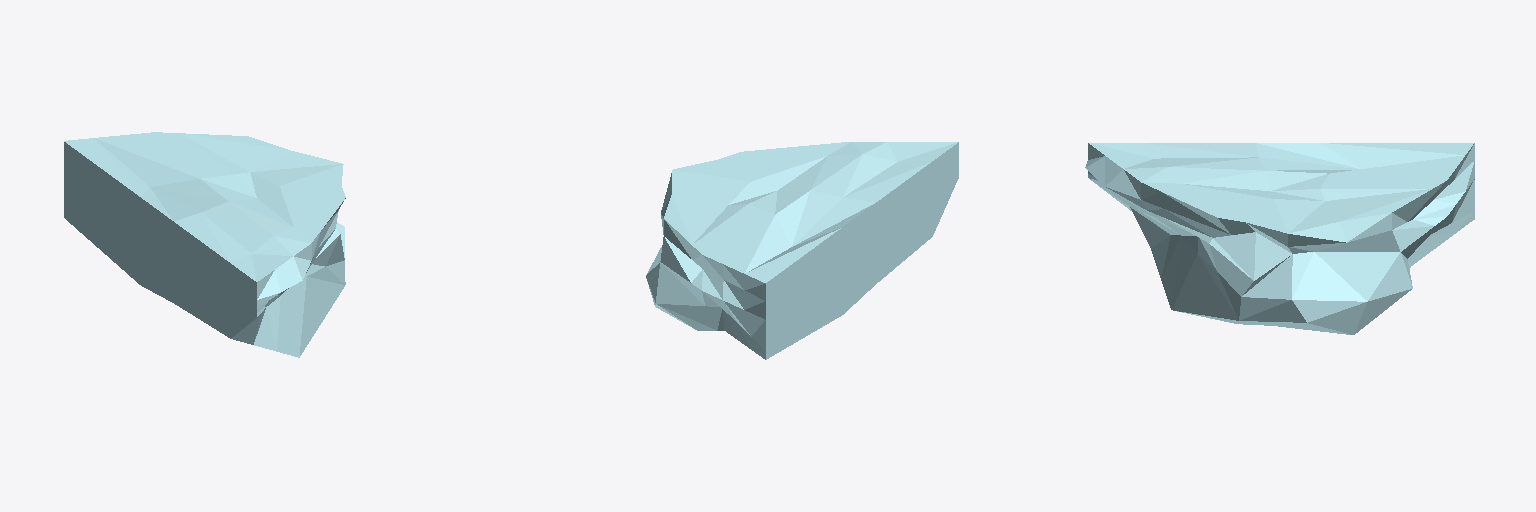
File: glacier.obj
3 renders of one model, left to right at view 1: azimuth 30°, elevation 25°; view 2: azimuth 150°, elevation 25°; view 3: azimuth 270°, elevation 25°, orthographic.
Parts seen in each view (by area): view 1: glacier; view 2: glacier; view 3: glacier.
Boxes of the visible parts, x1,y1,x2,y2 form: glacier: [64, 132, 345, 357]; glacier: [646, 142, 958, 359]; glacier: [1085, 143, 1474, 334].
Bounding box in the file's own units: 2363 × 1669 × 4192.